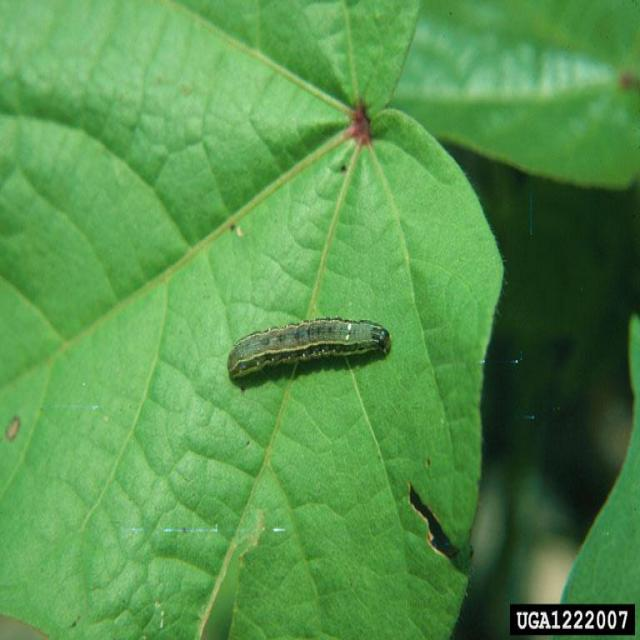BeetArmyWorm-Larva-: (210, 311, 396, 385)
